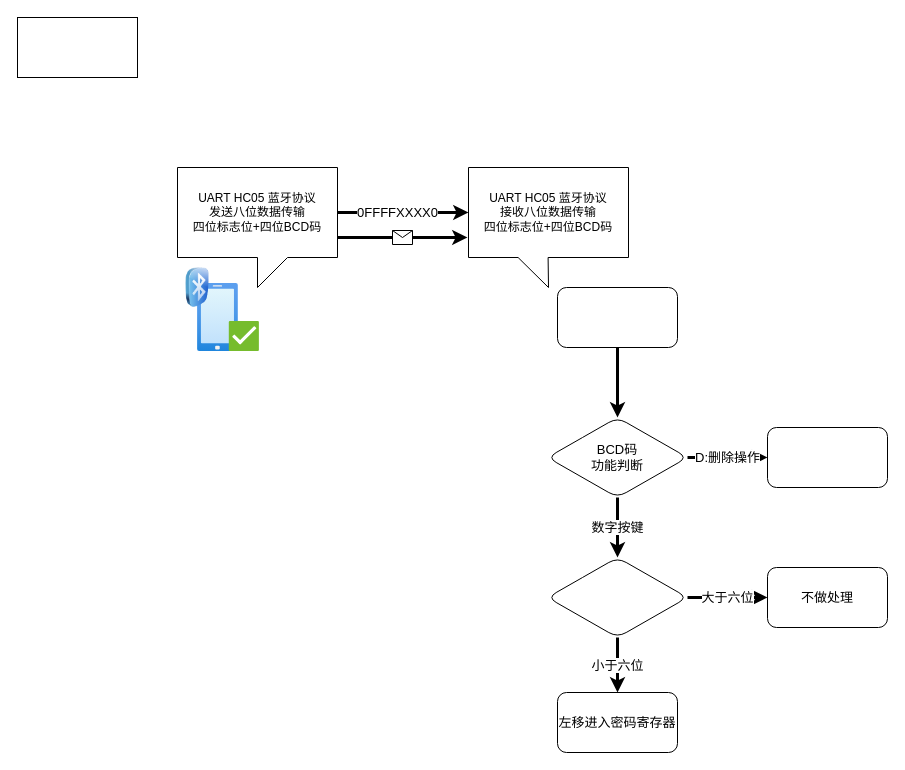
This 905x770 diagram has some shape labels left out. The box of each missing label's shape, as (x1, y1, x2, y2) in pixels:
数据接收: (556, 286, 678, 348)
移位减一 密码寄存器右移4位: (766, 426, 888, 488)
计数器移位判断: (546, 556, 688, 638)
